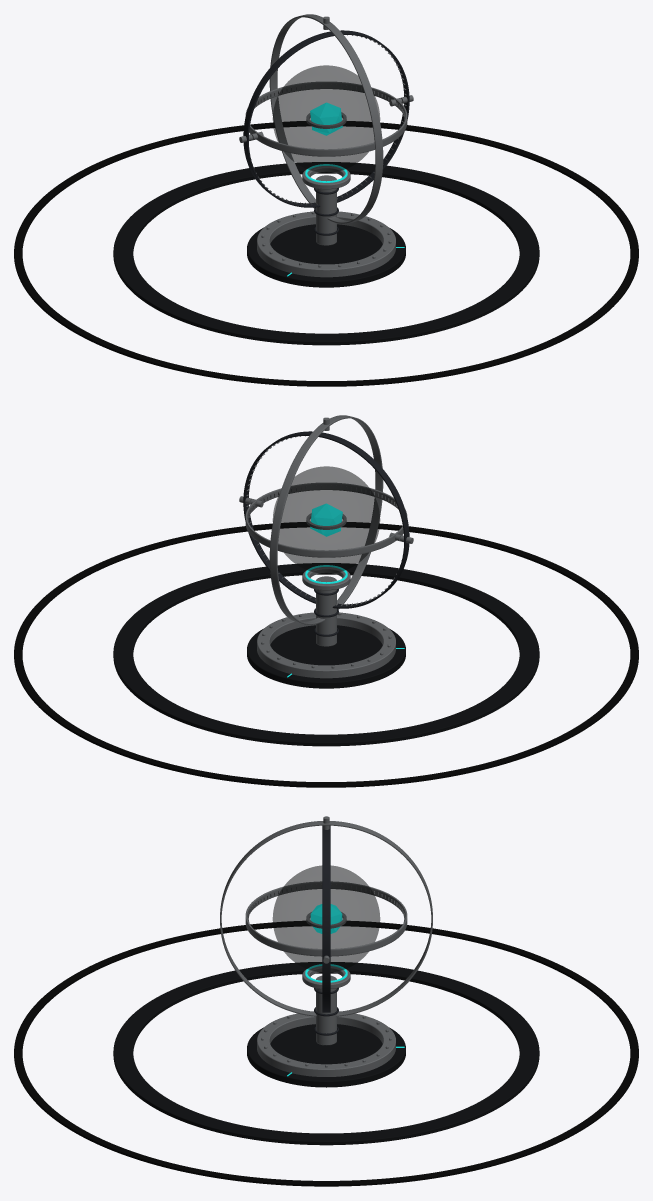
Rendered from prediction_core.glb.
The picture shows the model from 3 angles, top to bottom: view 1: azimuth 30°, elevation 25°; view 2: azimuth 150°, elevation 25°; view 3: azimuth 270°, elevation 25°; orthographic projection.
Parts seen in each view (by area): view 1: HallRing, Cradle, CoreShell, Gyro_2, Gyro_1, Gyro_0, Core; view 2: HallRing, Cradle, CoreShell, Gyro_2, Gyro_1, Gyro_0, Core; view 3: HallRing, Cradle, CoreShell, Gyro_2, Gyro_0, Gyro_1, Core.
Part boxes in pixels (left/top/right/bottom): HallRing: left=14, top=121, right=638, bottom=386; Cradle: left=247, top=166, right=405, bottom=287; CoreShell: left=272, top=65, right=380, bottom=172; Gyro_2: left=269, top=14, right=383, bottom=223; Gyro_1: left=239, top=30, right=413, bottom=207; Gyro_0: left=245, top=81, right=407, bottom=156; Core: left=306, top=102, right=346, bottom=135; HallRing: left=14, top=522, right=638, bottom=787; Cradle: left=247, top=567, right=405, bottom=688; CoreShell: left=272, top=466, right=380, bottom=573; Gyro_2: left=269, top=415, right=383, bottom=624; Gyro_1: left=239, top=431, right=413, bottom=608; Gyro_0: left=245, top=482, right=407, bottom=557; Core: left=306, top=503, right=346, bottom=536; HallRing: left=14, top=920, right=638, bottom=1186; Cradle: left=247, top=966, right=405, bottom=1087; CoreShell: left=272, top=865, right=380, bottom=972; Gyro_2: left=220, top=816, right=432, bottom=1016; Gyro_0: left=245, top=881, right=407, bottom=956; Gyro_1: left=322, top=825, right=330, bottom=1012; Core: left=306, top=904, right=346, bottom=933.
Bounding box in the file's own units: 8.8 × 3.69 × 8.8.
